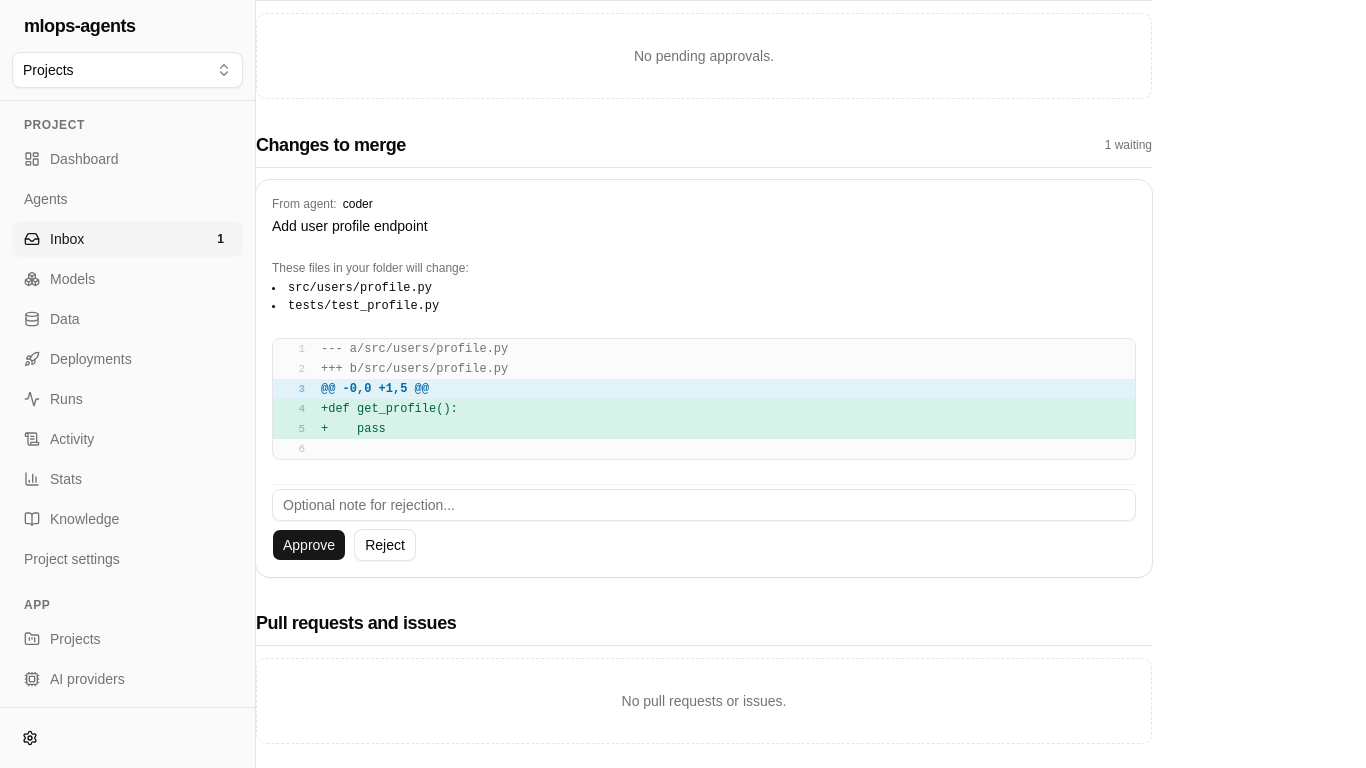
Test case: InboxPage local reviews › shows 409 conflict error message on review decision
(page scrolled)
Expected: the text "Add user profile endpoint" is shown, [272,218,428,234]
Click the button "Approve" at [309, 545], box [272,529,346,561]
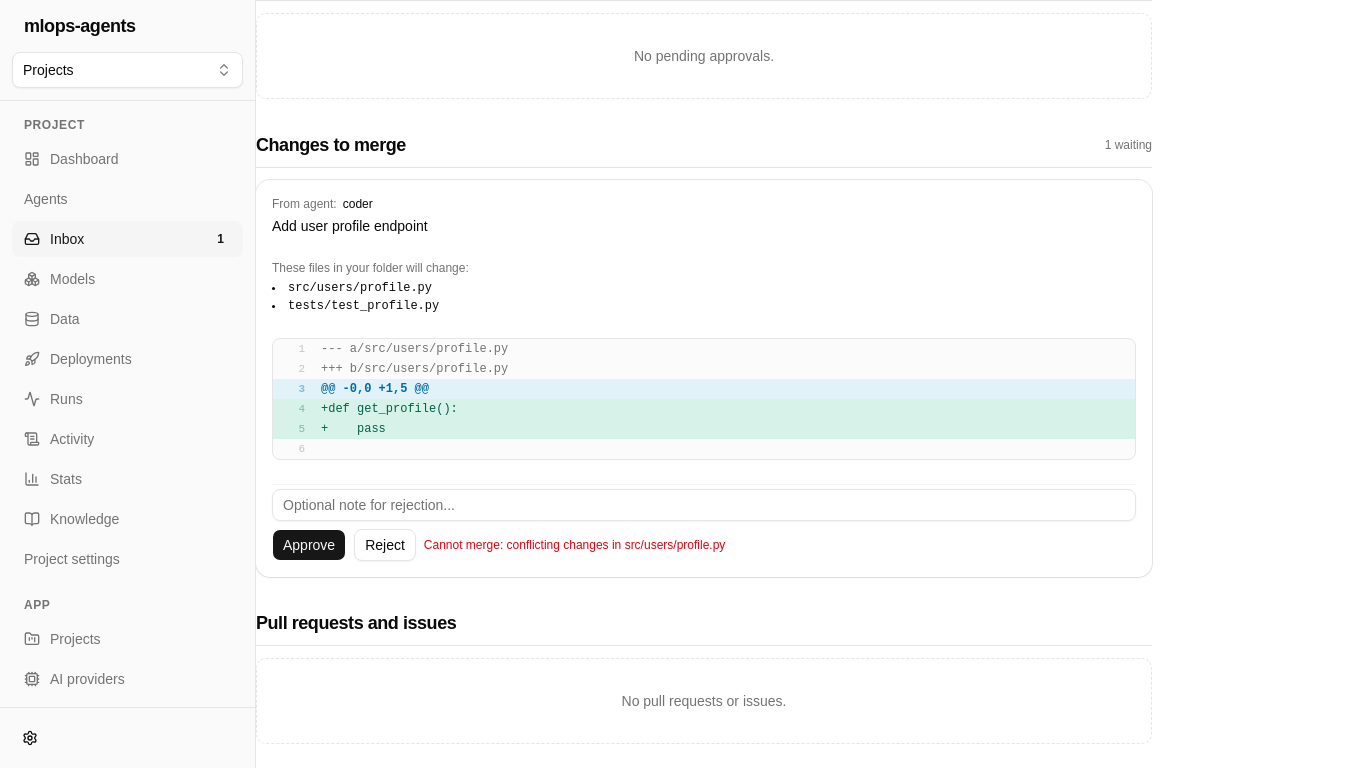
Expected: the text "Cannot merge: conflicting changes in src/users/profile.py" is shown, [424,537,725,553]
